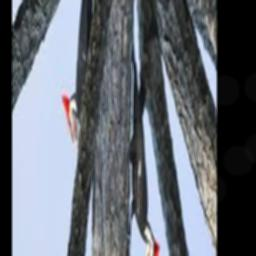Woodpecker: (127, 43, 159, 256), (62, 0, 94, 167)
